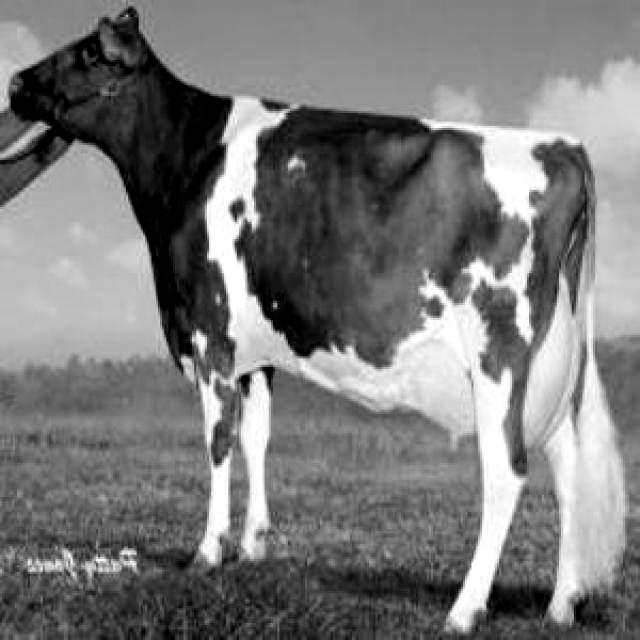COW: (10, 10, 624, 632)
